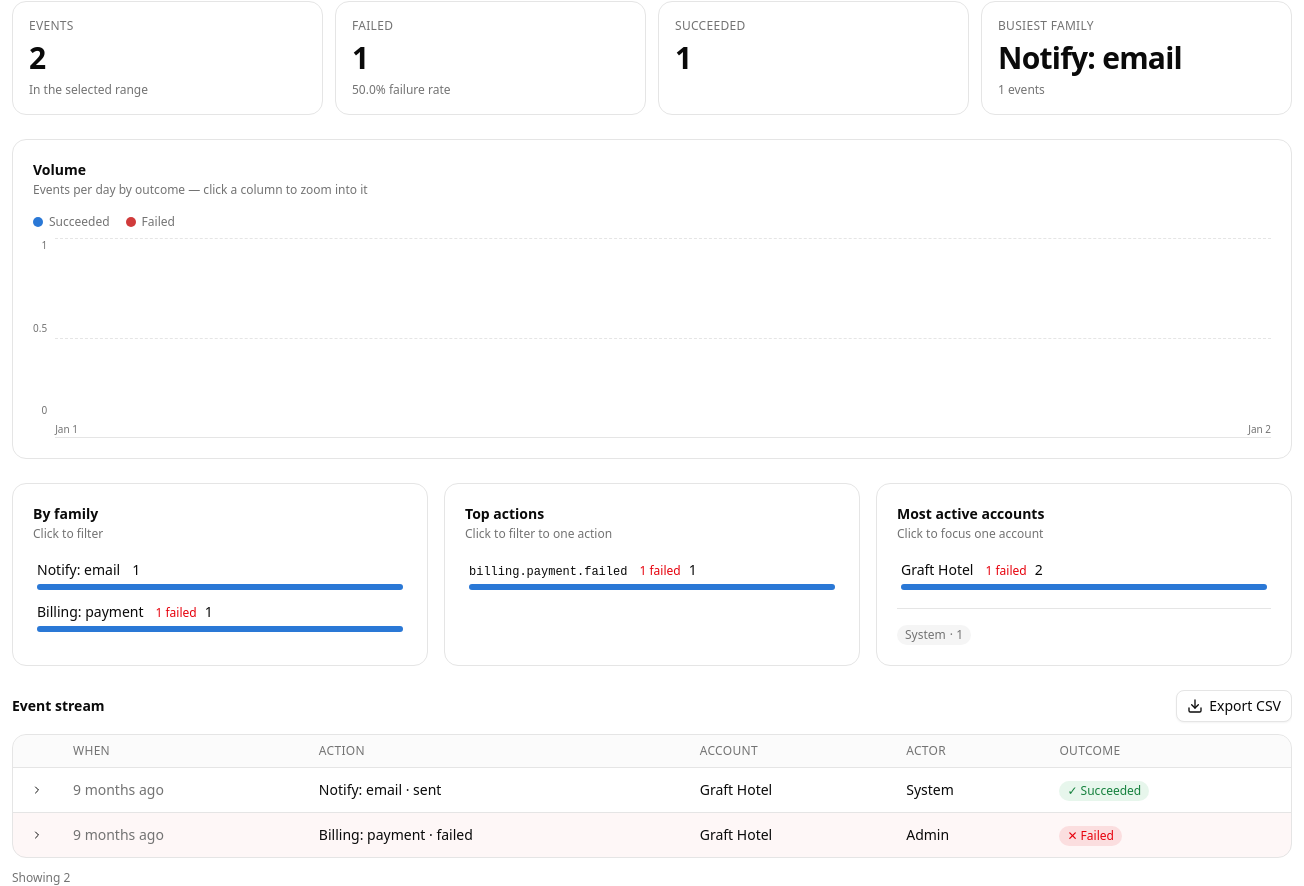
Scenario: ActivityMonitor › expanding a row shows labelled context values, never raw JSON
(page scrolled)
Expected: the button "Billing: payment · failed" is shown, [319,825,473,845]
Click the button named "Show details" in the row of "✕ Failed".
click(37, 835)  # box [25,823,49,847]
(page scrolled)
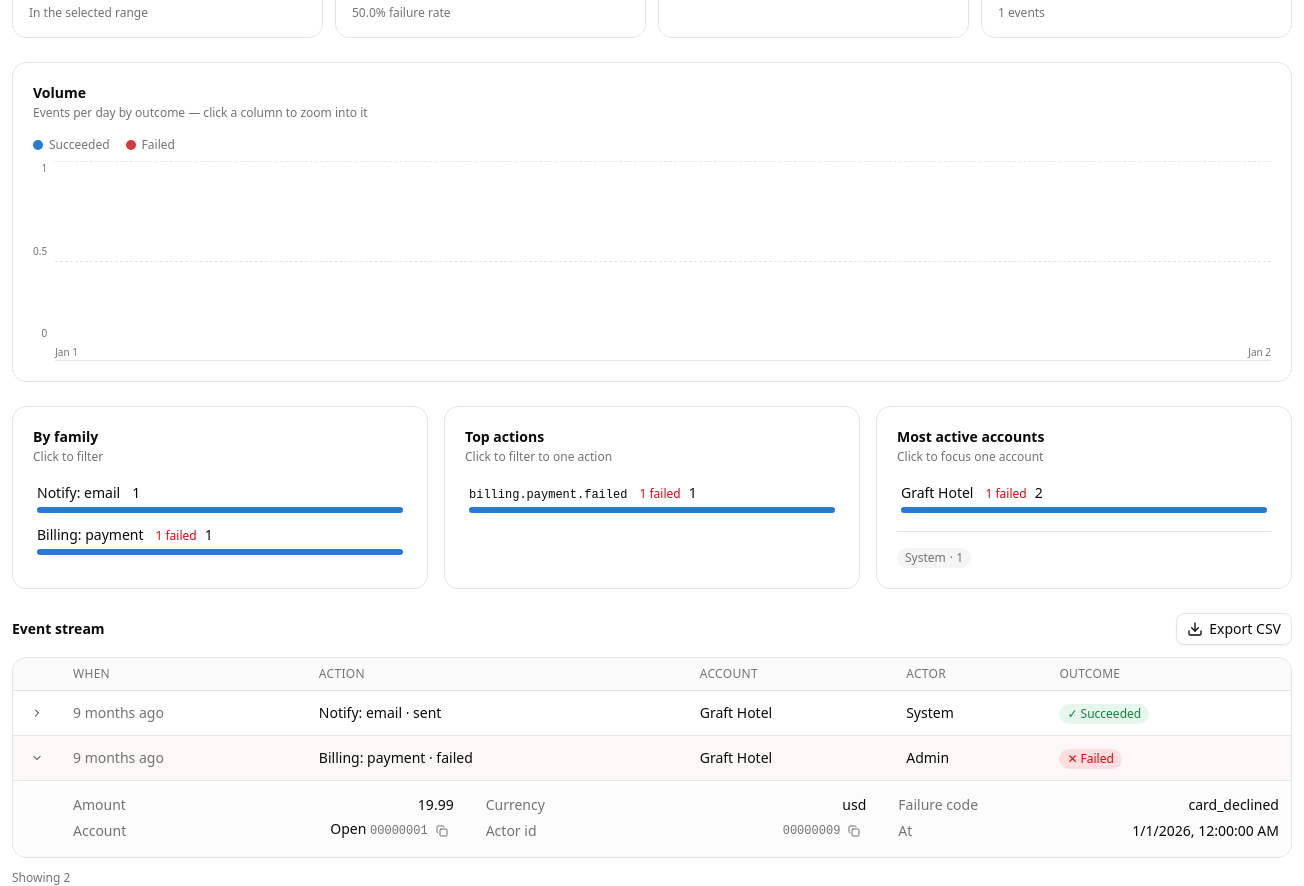
Expected: the text "19.99" is shown, [418,795,454,815]
Expected: the text "card_declined" is shown, [1188,795,1279,815]
